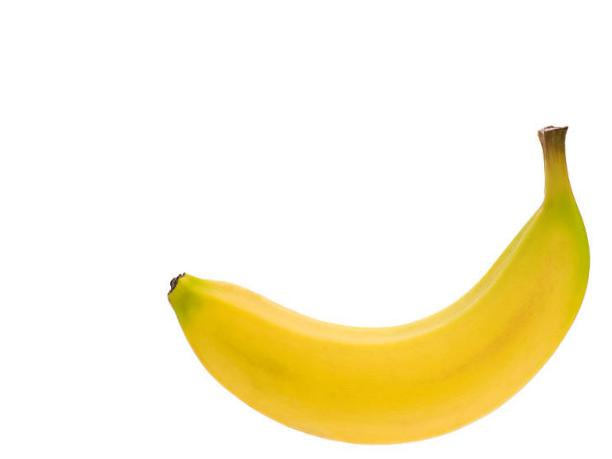banana: (166, 125, 592, 448)
